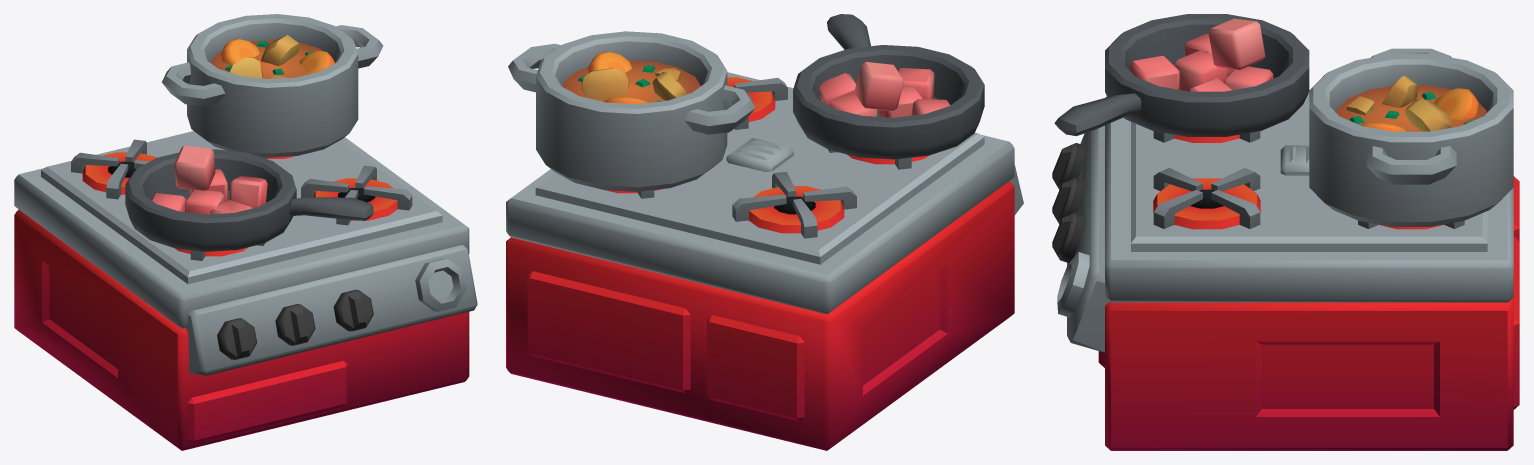
Rendered from stove-multi-decorated.glb.
3 views of the same model, side by side, from view 1: azimuth 30°, elevation 25°; view 2: azimuth 150°, elevation 25°; view 3: azimuth 270°, elevation 25° (orthographic). The views are drawn at different scales.
Parts seen in each view (by area): view 1: stove_multi_decorated; view 2: stove_multi_decorated; view 3: stove_multi_decorated.
Part boxes in pixels (left/top/right/bottom): stove_multi_decorated: left=14, top=14, right=477, bottom=450; stove_multi_decorated: left=506, top=14, right=1023, bottom=450; stove_multi_decorated: left=1052, top=14, right=1519, bottom=450.
Bounding box in the file's own units: 2.2 × 1.72 × 2.29.
1 material, 1 textured.
